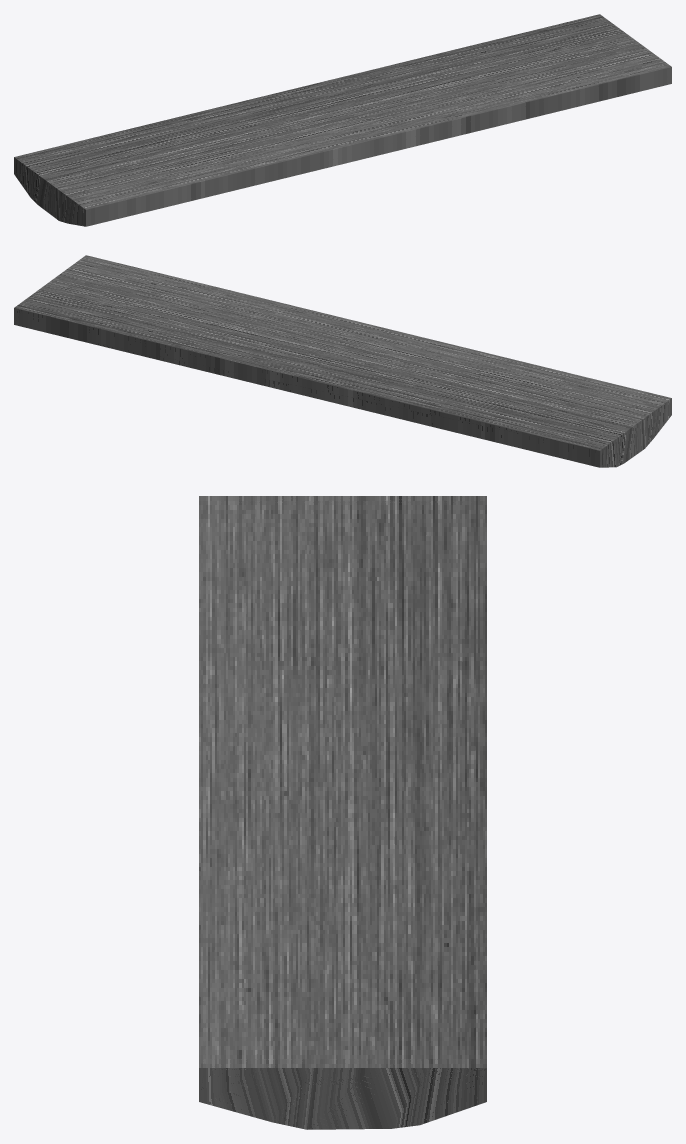
File: light2.glb
3 renders of one model, top to bottom at view 1: azimuth 30°, elevation 25°; view 2: azimuth 150°, elevation 25°; view 3: azimuth 270°, elevation 25°, orthographic. The views are drawn at different scales.
Visible parts, largest first — view 1: Light.004; view 2: Light.004; view 3: Light.004.
Boxes of the visible parts, bbox=[...] form: Light.004: bbox=[14, 14, 671, 226]; Light.004: bbox=[14, 255, 671, 467]; Light.004: bbox=[199, 496, 486, 1129].
Size of the model in its own units: 9.39 by 0.4731 by 2.
Materials: 2 (1 with a texture image).
